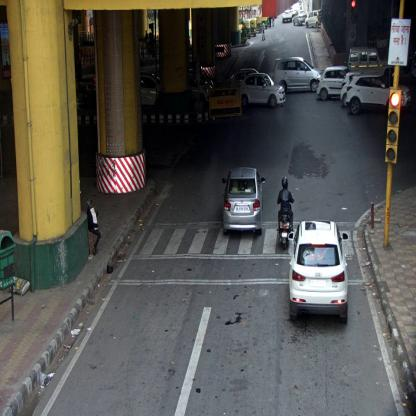car: (288, 219, 349, 326), (221, 167, 265, 236), (346, 73, 414, 115), (274, 58, 324, 92), (240, 75, 286, 108), (348, 48, 392, 78), (316, 67, 350, 98), (304, 11, 320, 26), (292, 10, 306, 27)
